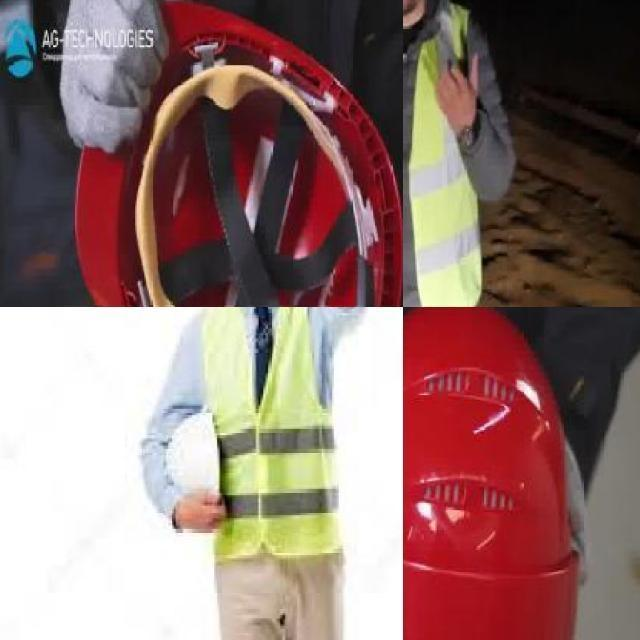apron: (59, 0, 188, 158)
